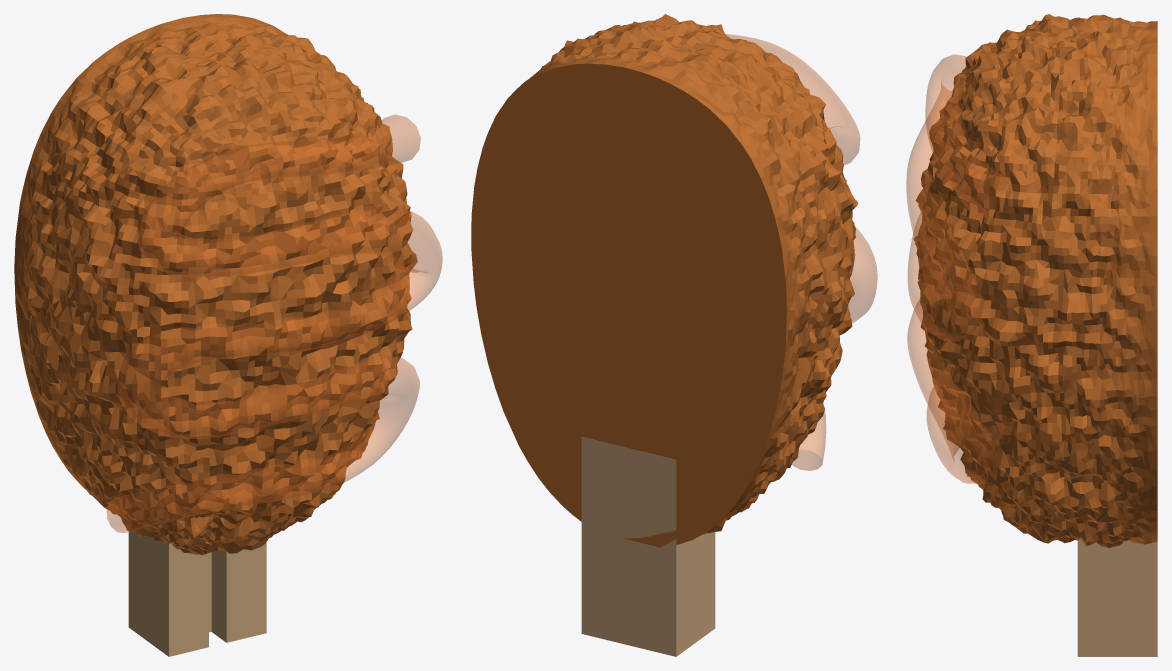
File: hotdog.glb
3 views of the same model, side by side, from view 1: azimuth 30°, elevation 25°; view 2: azimuth 150°, elevation 25°; view 3: azimuth 270°, elevation 25° (orthographic). The views are drawn at different scales.
Parts seen in each view (by area): view 1: Cube.668, NurbsPath.029, Cube.667; view 2: Cube.668, Cube.667, NurbsPath.029; view 3: Cube.668, NurbsPath.029, Cube.667.
Boxes of the visible parts, x1,y1,x2,y2 form: Cube.668: (14,14,417,555); NurbsPath.029: (107,114,442,532); Cube.667: (128,531,266,656); Cube.668: (471,14,858,547); Cube.667: (581,436,715,656); NurbsPath.029: (725,34,877,470); Cube.668: (913,14,1157,547); NurbsPath.029: (906,54,1008,483); Cube.667: (1077,539,1157,656).
Bounding box in the file's own units: 9.75 × 16.5 × 6.27.
